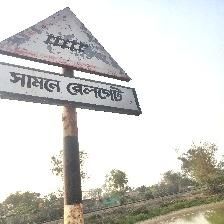Rail-crossing: (0, 6, 140, 116)
